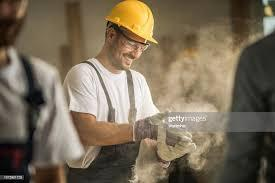Gloves: (133, 117, 192, 146)
Helmet: (105, 1, 165, 45)
